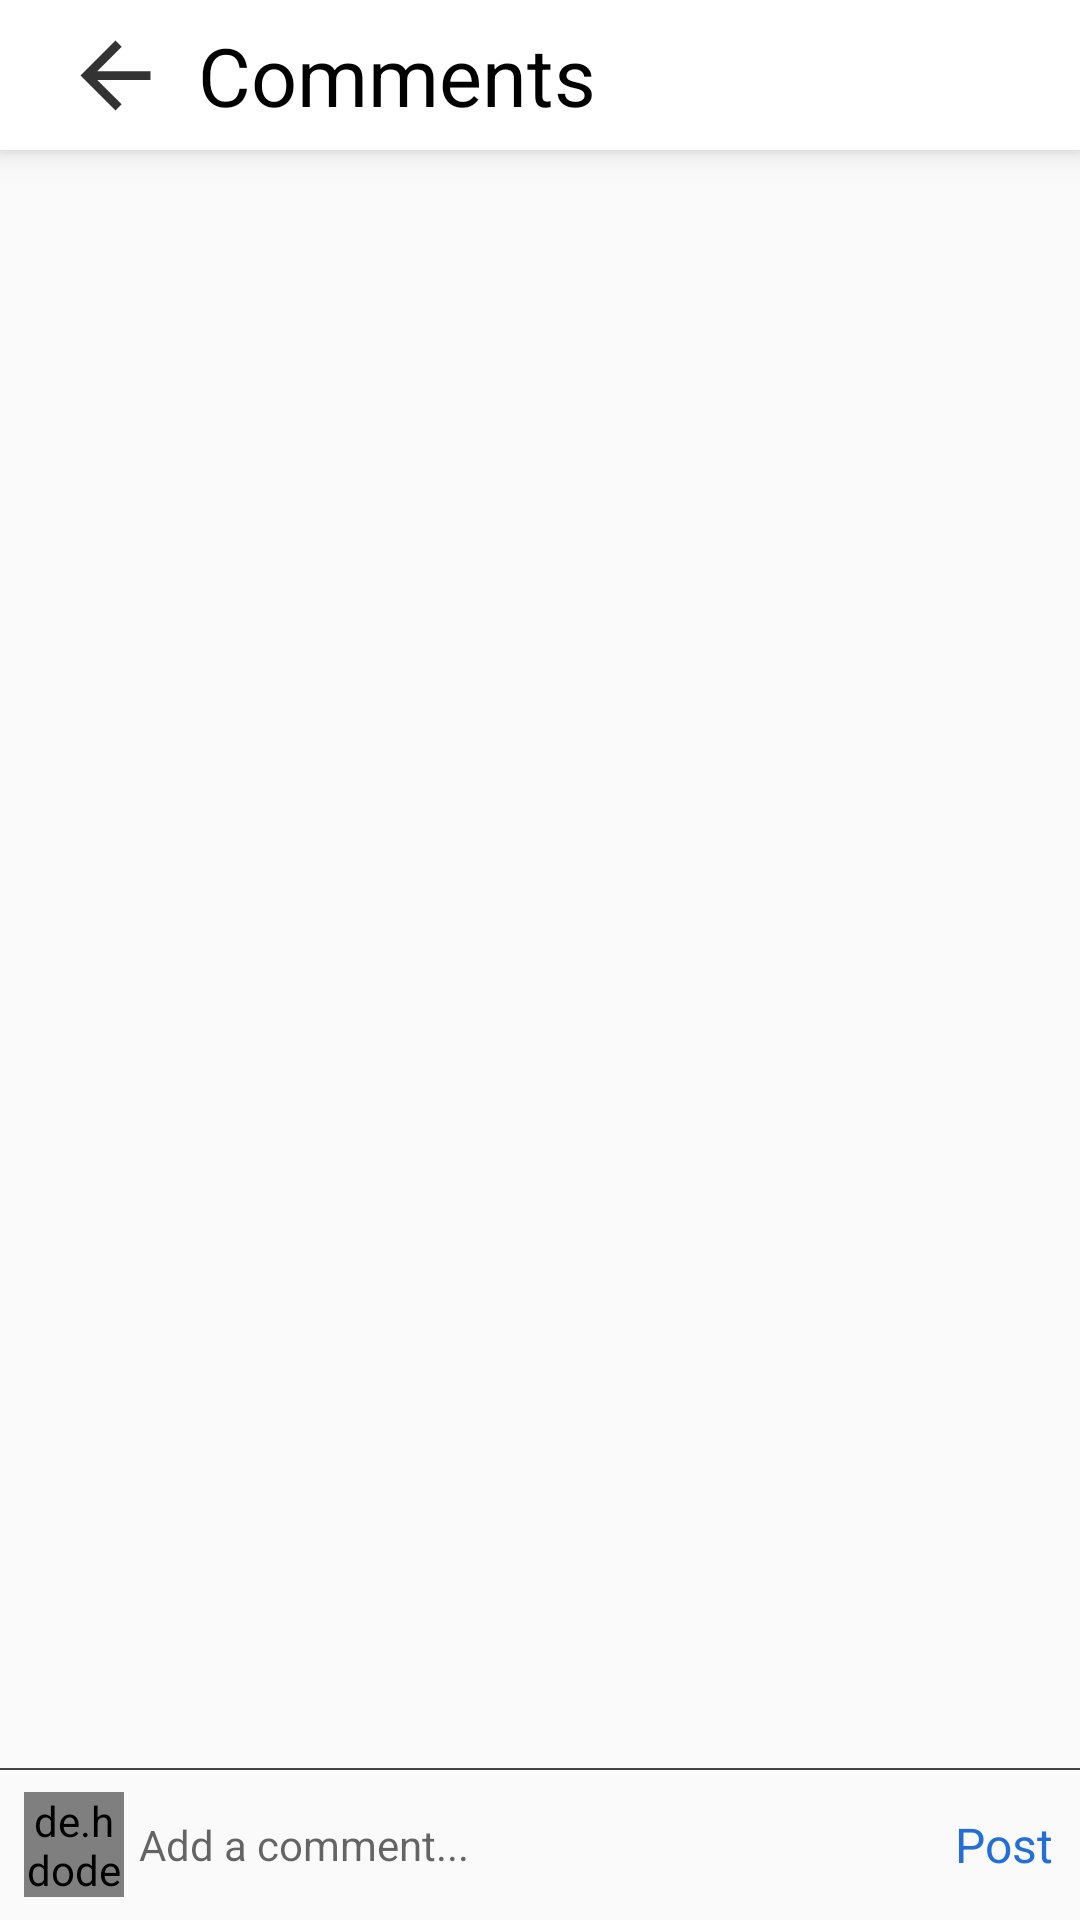

Icon click points for this 1080px×1920px phone screenshot, format (x=x, y=y):
back arrow: (x=115, y=75)
